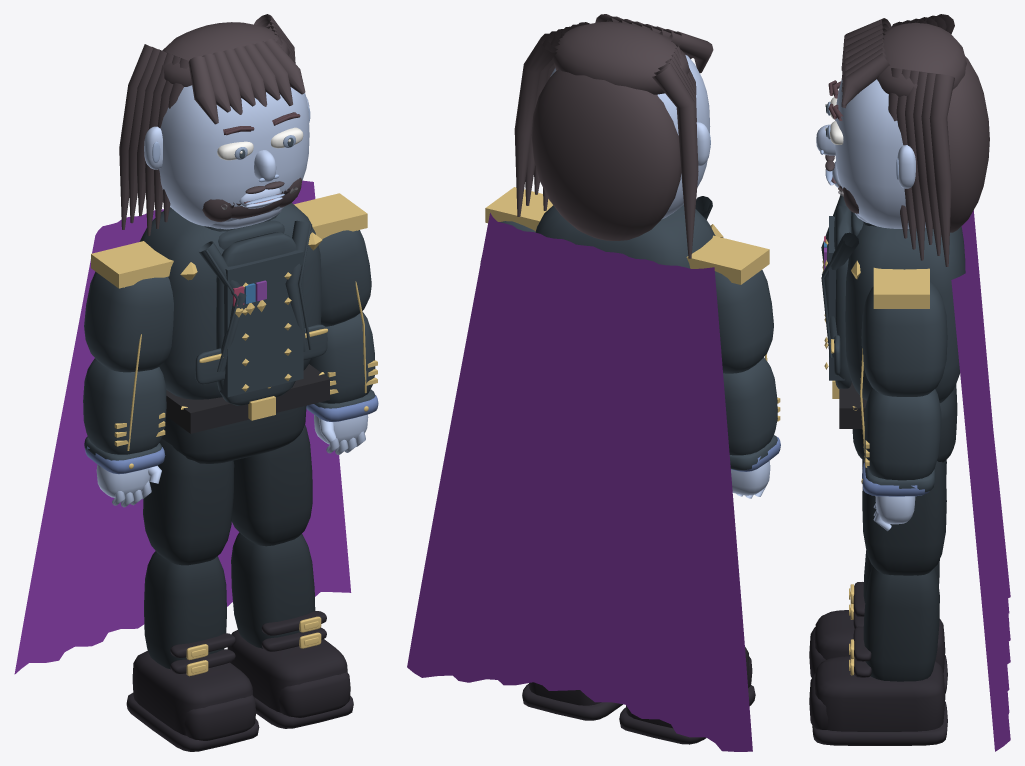
File: shakhak_chompjak.glb
3 views of the same model, side by side, from view 1: azimuth 30°, elevation 25°; view 2: azimuth 150°, elevation 25°; view 3: azimuth 270°, elevation 25° (orthographic). The views are drawn at different scales.
Visible parts, largest first — view 1: Shakhak imperial purple pleated cape 174, Face 15, Puffer body 0, R thigh 12, Shakhak tailored tunic front 135, R upperArm 9, R shin 13, L thigh 6, L shin 7, R lowerArm 10, R foot boot 14, Pants hips 2 (+37 smaller); view 2: Shakhak imperial purple pleated cape 174, Long hair back 97, Hair crown 98, R upperArm 9, Puffer body 0, R lowerArm 10, Long hair layered strand -15 104, Long hair layered strand 15 110, Command epaulette -1 141, Command epaulette 1 156, Face 15, Boot sole 1 70 (+5 smaller); view 3: Shakhak imperial purple pleated cape 174, Puffer body 0, L shin 7, Face 15, L upperArm 3, L foot boot 8, L lowerArm 4, L thigh 6, Long hair back 97, Hair crown 98, Long hair layered strand 15 110, Command epaulette 1 156 (+23 smaller).
Boxes of the visible parts, left/top/right/bottom form: Shakhak imperial purple pleated cape 174: left=14, top=180, right=351, bottom=674; Face 15: left=159, top=85, right=309, bottom=226; Puffer body 0: left=139, top=203, right=321, bottom=399; R thigh 12: left=143, top=439, right=234, bottom=565; Shakhak tailored tunic front 135: left=219, top=250, right=303, bottom=397; R upperArm 9: left=84, top=271, right=173, bottom=372; R shin 13: left=144, top=551, right=226, bottom=669; L thigh 6: left=231, top=425, right=312, bottom=546; L shin 7: left=231, top=532, right=315, bottom=648; R lowerArm 10: left=83, top=358, right=166, bottom=454; R foot boot 14: left=132, top=650, right=252, bottom=735; Pants hips 2: left=162, top=405, right=306, bottom=463; Shakhak imperial purple pleated cape 174: left=407, top=213, right=752, bottom=751; Long hair back 97: left=531, top=69, right=681, bottom=240; Hair crown 98: left=552, top=21, right=689, bottom=94; R upperArm 9: left=715, top=270, right=773, bottom=373; Puffer body 0: left=535, top=205, right=715, bottom=268; R lowerArm 10: left=723, top=357, right=777, bottom=455; Long hair layered strand -15 104: left=652, top=63, right=698, bottom=258; Long hair layered strand 15 110: left=514, top=33, right=559, bottom=216; Command epaulette -1 141: left=686, top=235, right=769, bottom=284; Command epaulette 1 156: left=485, top=187, right=552, bottom=231; Face 15: left=550, top=55, right=710, bottom=219; Boot sole 1 70: left=522, top=683, right=622, bottom=720; Shakhak imperial purple pleated cape 174: left=951, top=210, right=1010, bottom=751; Puffer body 0: left=845, top=223, right=965, bottom=402; L shin 7: left=863, top=566, right=939, bottom=681; Face 15: left=835, top=79, right=925, bottom=228; L upperArm 3: left=861, top=282, right=947, bottom=396; L foot boot 8: left=814, top=656, right=945, bottom=731; L lowerArm 4: left=863, top=387, right=941, bottom=480; L thigh 6: left=862, top=461, right=946, bottom=575; Long hair back 97: left=933, top=56, right=989, bottom=232; Hair crown 98: left=877, top=22, right=966, bottom=96; Long hair layered strand 15 110: left=929, top=74, right=954, bottom=266; Command epaulette 1 156: left=873, top=267, right=929, bottom=308.
Bounding box in the file's own units: 1.06 × 2 × 0.5452.
